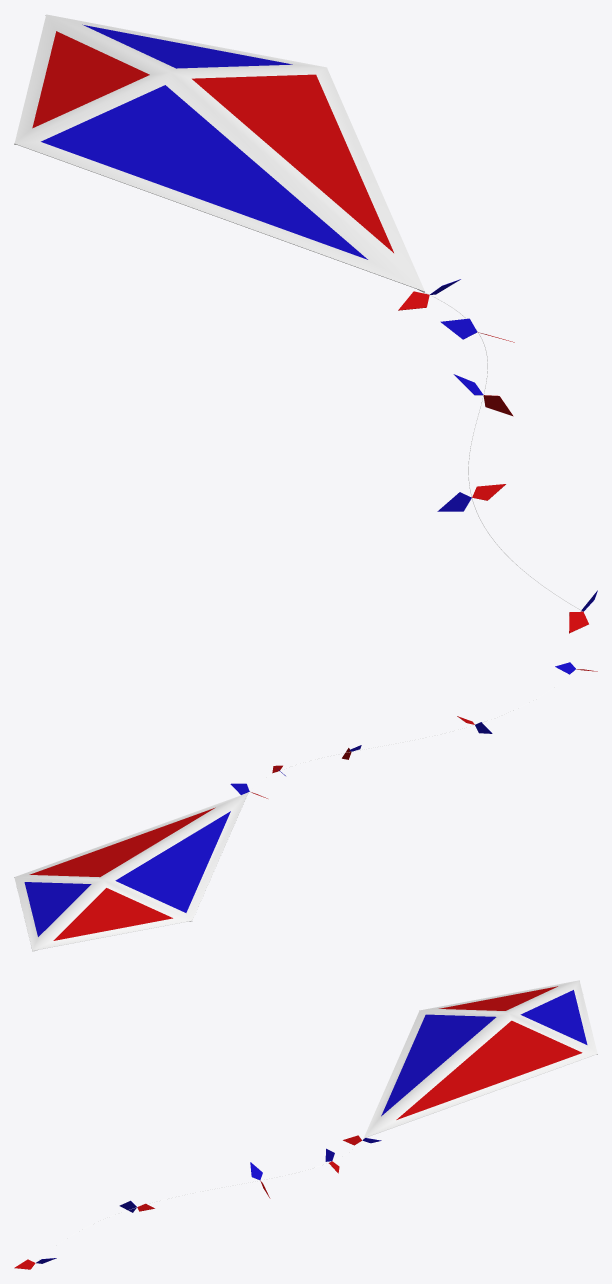
File: kite_basic.sgm.obj
The picture shows the model from 3 angles, top to bottom: view 1: azimuth 30°, elevation 25°; view 2: azimuth 150°, elevation 25°; view 3: azimuth 330°, elevation 25°; orthographic projection. The views are drawn at different scales.
Parts seen in each view (by area): view 1: 2, 1, 0; view 2: 2, 1, 0; view 3: 2, 0, 1.
Boxes of the visible parts, box(x1,y1,x2,y2) form: 2: box(14, 14, 582, 611); 1: box(41, 24, 597, 611); 0: box(32, 31, 588, 633); 2: box(14, 669, 575, 951); 1: box(24, 662, 575, 936); 0: box(29, 669, 597, 940); 2: box(37, 980, 597, 1261); 0: box(14, 986, 582, 1269); 1: box(36, 990, 587, 1263).
Bounding box in the file's own units: 0.5133 × 0.1118 × 1.72.
